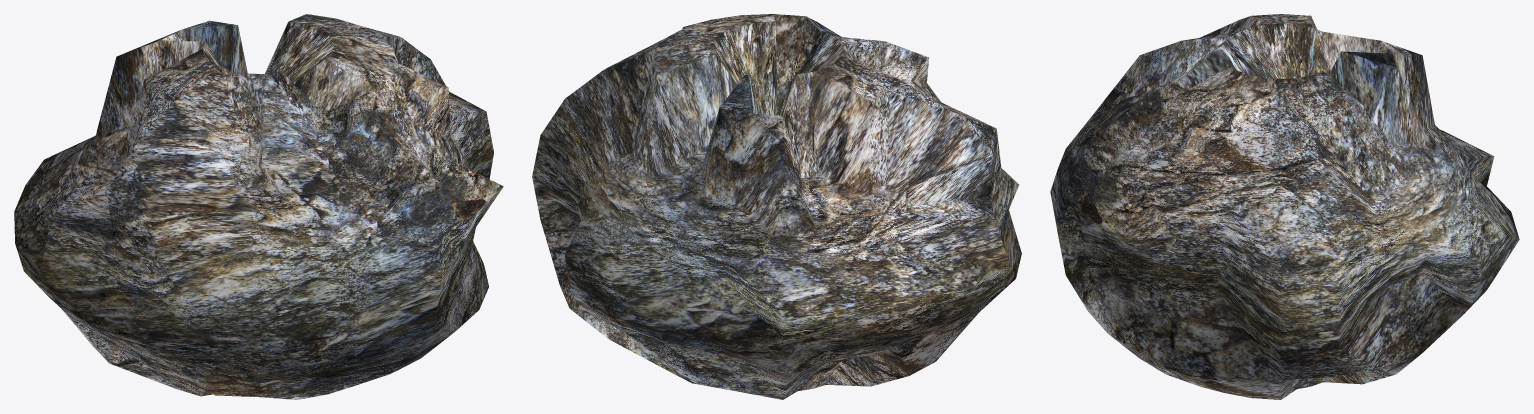
Rendered from Stein_4.fbx.
3 renders of one model, left to right at view 1: azimuth 30°, elevation 25°; view 2: azimuth 150°, elevation 25°; view 3: azimuth 270°, elevation 25°, orthographic. The views are drawn at different scales.
Visible parts, largest first — view 1: Kugel; view 2: Kugel; view 3: Kugel.
Boxes of the visible parts, <box> form: Kugel: <box>14,14,503,399</box>; Kugel: <box>532,14,1021,399</box>; Kugel: <box>1050,14,1519,399</box>.
Size of the model in its own units: 154 by 105 by 141.
1 material, 1 textured.
